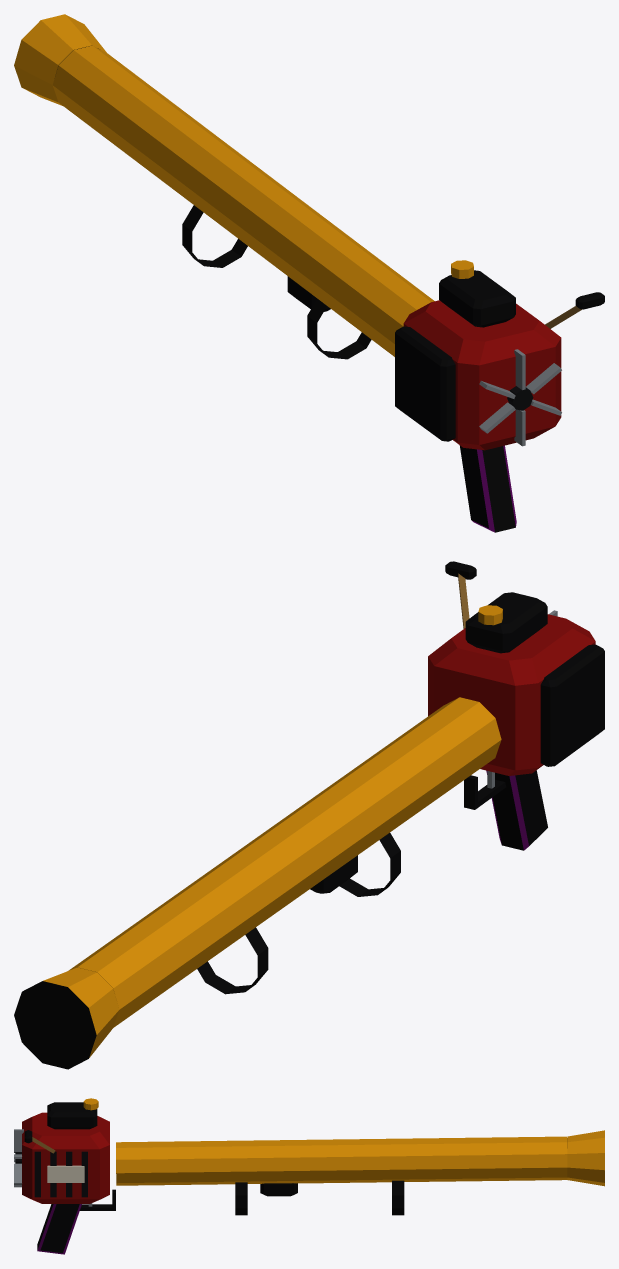
Rendered from SM_Wep_Fun_LeafBlower.glb.
The picture shows the model from 3 angles, top to bottom: view 1: azimuth 30°, elevation 25°; view 2: azimuth 150°, elevation 25°; view 3: azimuth 270°, elevation 25°; orthographic projection. The views are drawn at different scales.
Parts seen in each view (by area): view 1: SM_Wep_Fun_LeafBlower, SM_Wep_Fun_LeafBlower_Fan; view 2: SM_Wep_Fun_LeafBlower; view 3: SM_Wep_Fun_LeafBlower, SM_Wep_Fun_LeafBlower_Fan.
Part boxes in pixels (x1,y1,x2,y2): SM_Wep_Fun_LeafBlower: (14, 14, 604, 532); SM_Wep_Fun_LeafBlower_Fan: (479, 349, 561, 446); SM_Wep_Fun_LeafBlower: (14, 561, 604, 1069); SM_Wep_Fun_LeafBlower: (22, 1098, 604, 1254); SM_Wep_Fun_LeafBlower_Fan: (14, 1129, 23, 1187).
Bounding box in the file's own units: 0.18 × 0.264 × 0.943.
1 material, 1 textured.
